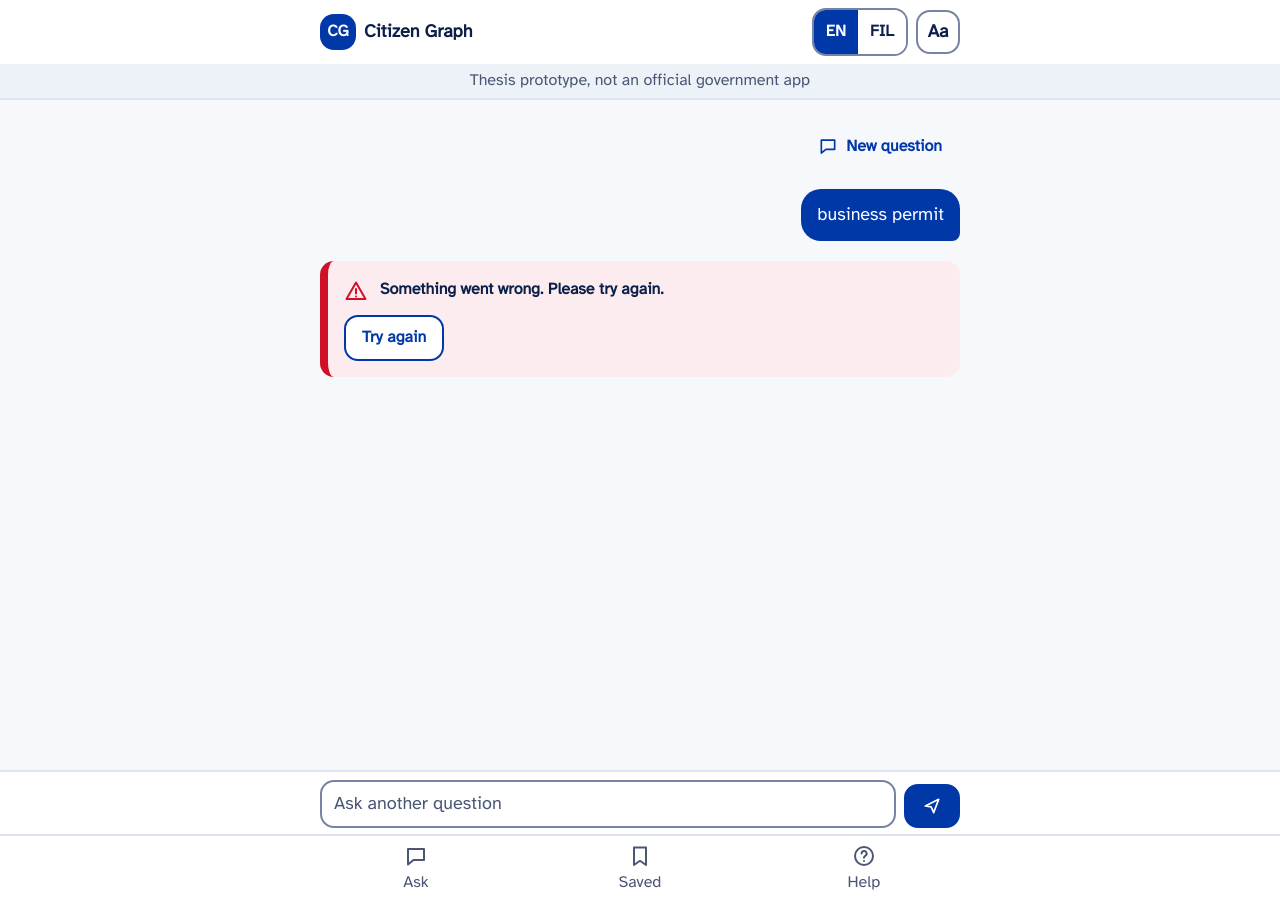
Test case: chat behaviour › shows an error card and retries the same question
This screenshot has width=1280, height=900.
Expected: the message shows "Something went wrong. Please try again.", [380,279,664,299]
Click the button "Try again" at (394, 338), box [344,315,444,361]
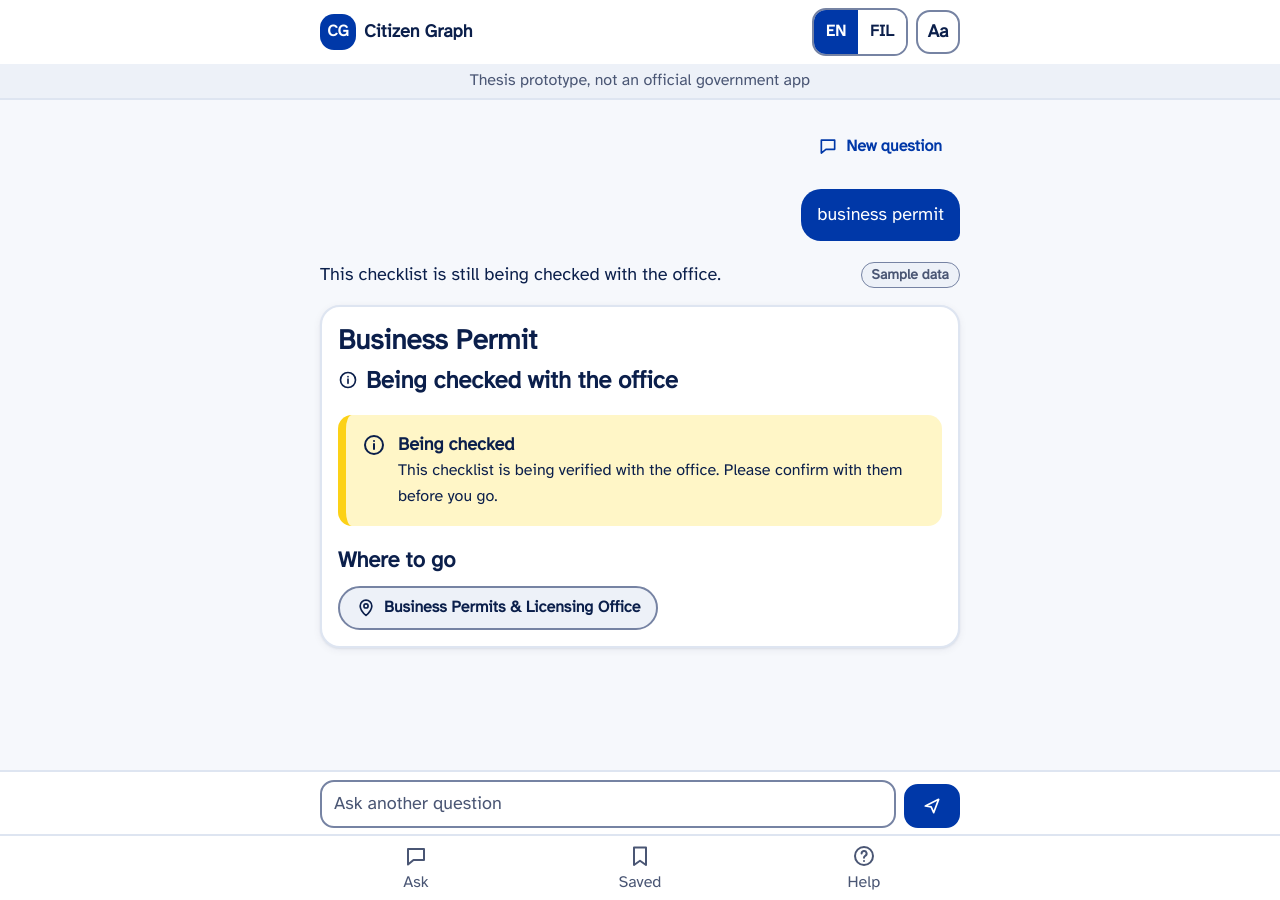
Expected: the element "Business Permit" is shown, [320,305,960,648]
Expected: the message "Something went wrong. Please try again. Try again" is gone
